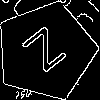Z: (21, 26, 76, 80)
